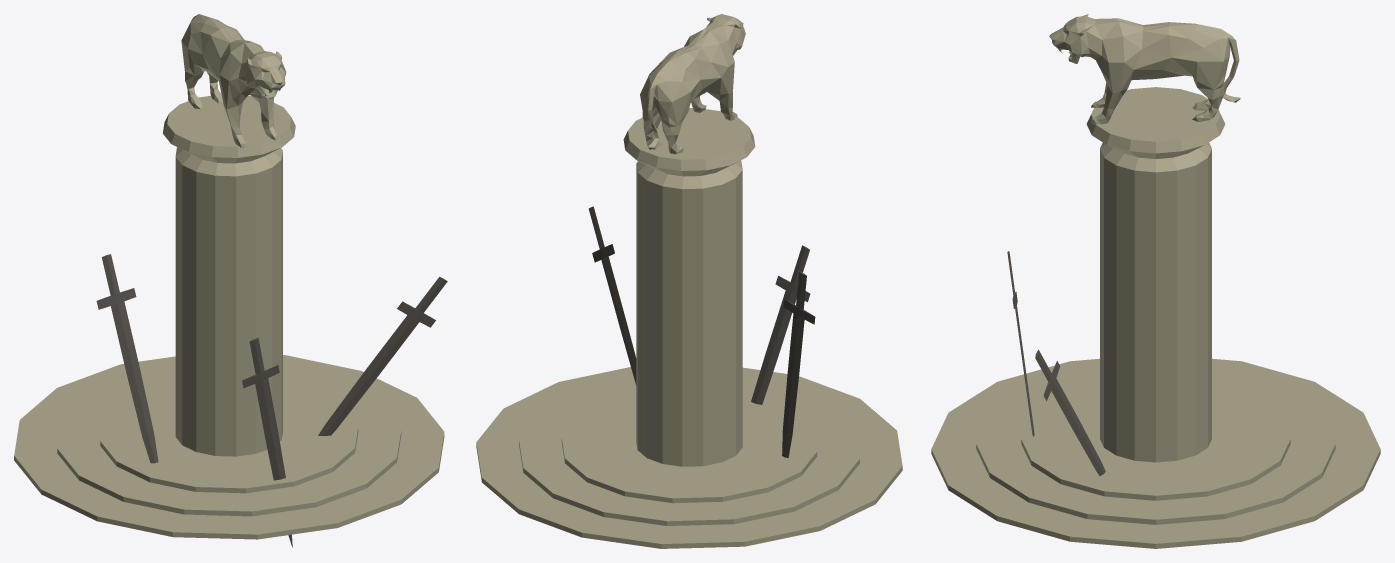
Rendered from Tiger_Statue.fbx.
3 renders of one model, left to right at view 1: azimuth 30°, elevation 25°; view 2: azimuth 150°, elevation 25°; view 3: azimuth 270°, elevation 25°, orthographic. The views are drawn at different scales.
Parts seen in each view (by area): view 1: Cylinder.003, Cylinder, Cylinder.001, Cylinder.002, Plane, Sword.003, Sword.002, Sword.001; view 2: Cylinder.003, Cylinder, Cylinder.001, Cylinder.002, Plane, Sword.003, Sword.001, Sword.002; view 3: Cylinder.003, Cylinder, Cylinder.001, Cylinder.002, Plane, Sword.002, Sword.001.
Part boxes in pixels (<box>): Cylinder.003: <box>163,95,295,456</box>; Cylinder: <box>14,355,444,539</box>; Cylinder.001: <box>57,370,401,516</box>; Cylinder.002: <box>100,384,358,493</box>; Plane: <box>181,14,286,147</box>; Sword.003: <box>96,254,158,463</box>; Sword.002: <box>318,277,447,435</box>; Sword.001: <box>242,337,292,547</box>; Cylinder.003: <box>623,108,755,466</box>; Cylinder: <box>476,367,902,548</box>; Cylinder.001: <box>519,381,859,525</box>; Cylinder.002: <box>561,395,817,503</box>; Plane: <box>640,14,745,154</box>; Sword.003: <box>782,271,815,457</box>; Sword.001: <box>751,245,810,404</box>; Sword.002: <box>588,206,636,385</box>; Cylinder.003: <box>1086,87,1225,462</box>; Cylinder: <box>931,358,1380,548</box>; Cylinder.001: <box>976,372,1335,524</box>; Cylinder.002: <box>1021,387,1290,500</box>; Plane: <box>1049,14,1240,124</box>; Sword.002: <box>1035,349,1105,476</box>; Sword.001: <box>1007,251,1034,436</box>.
Bounding box in the file's own units: 400 × 492 × 400.
